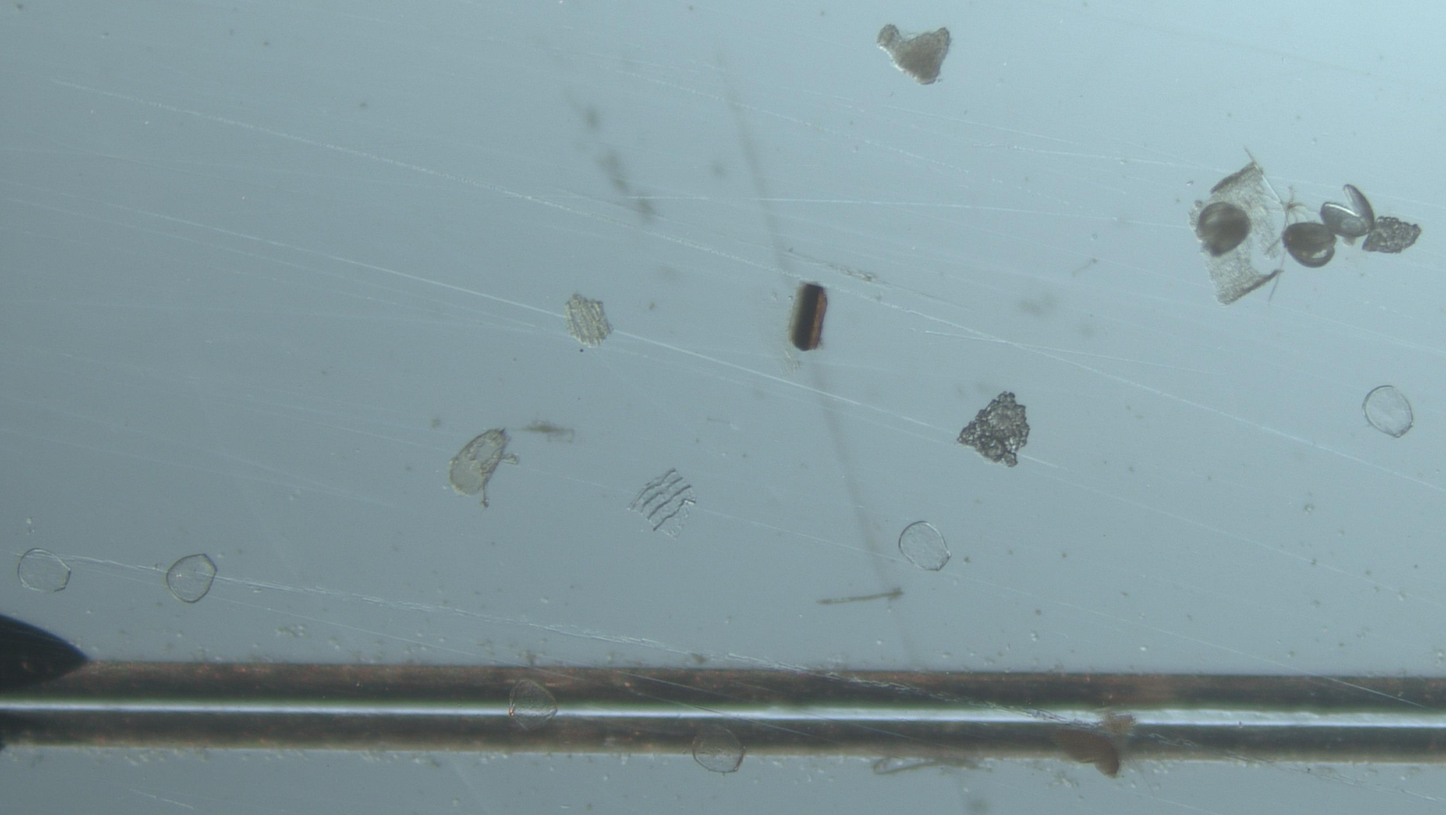dead: (1363, 386, 1414, 438), (899, 522, 949, 571), (694, 725, 745, 773), (509, 680, 557, 730), (17, 549, 71, 593), (167, 555, 216, 603)
live: (1197, 202, 1252, 257), (1321, 185, 1376, 239), (1283, 222, 1336, 268)
